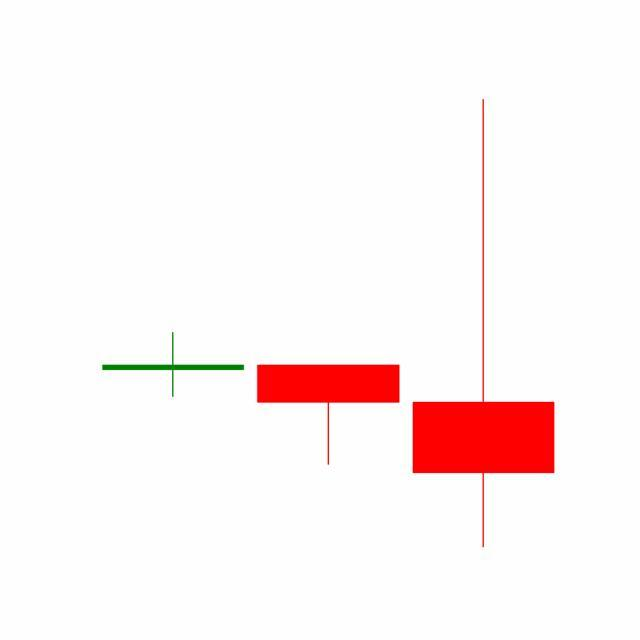Hammer: (250, 364, 407, 467)
